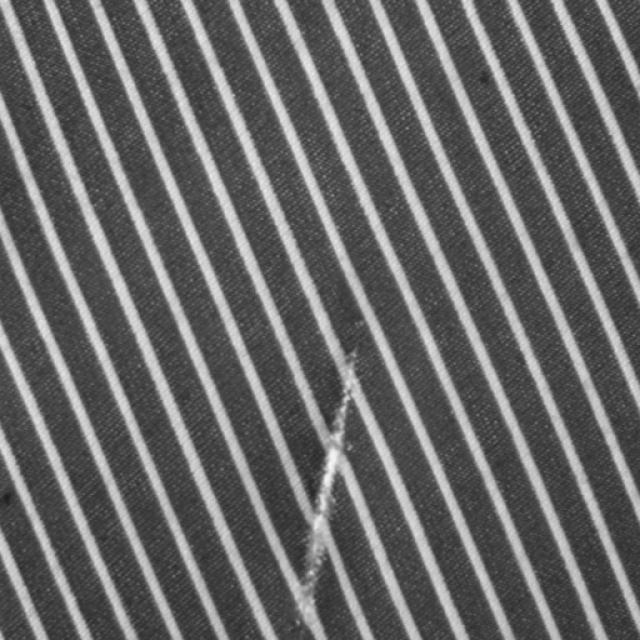Hole-Defect: (295, 351, 360, 634)
